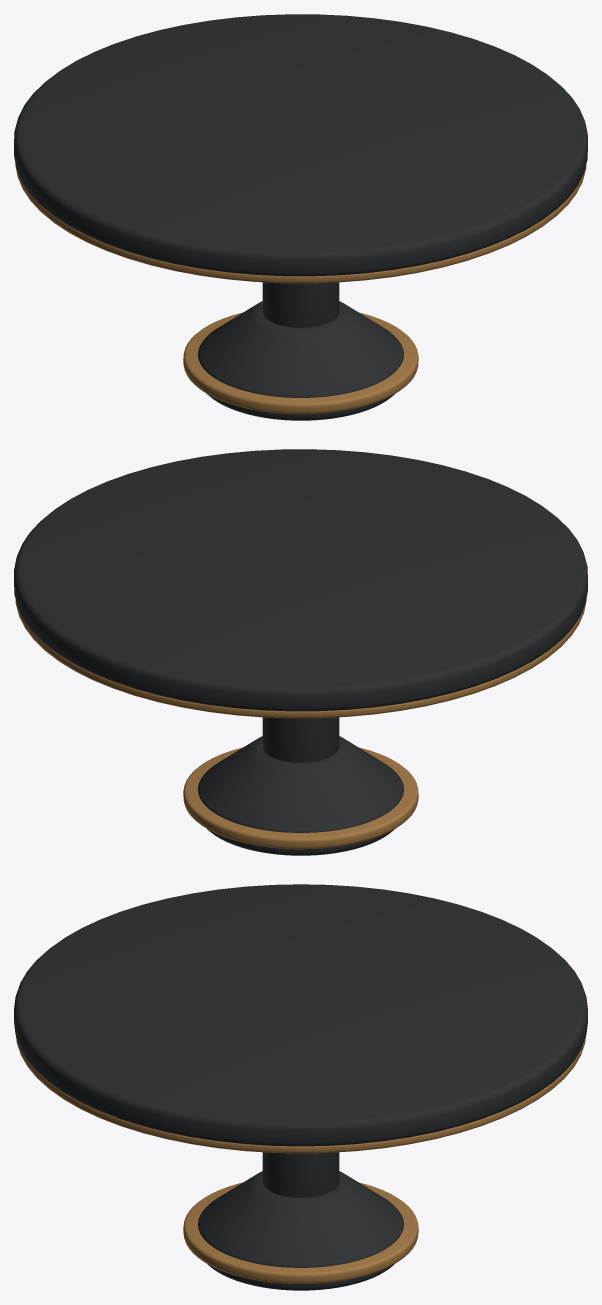
Rendered from barcelona-able.glb.
The picture shows the model from 3 angles, top to bottom: view 1: azimuth 30°, elevation 25°; view 2: azimuth 150°, elevation 25°; view 3: azimuth 270°, elevation 25°; orthographic projection.
Visible parts, largest first — view 1: Barcelona tabletop, Barcelona pedestal flare, Barcelona base accent, Barcelona tabletop bronze rim, Barcelona pedestal stem, Barcelona base; view 2: Barcelona tabletop, Barcelona pedestal flare, Barcelona base accent, Barcelona tabletop bronze rim, Barcelona pedestal stem, Barcelona base; view 3: Barcelona tabletop, Barcelona pedestal flare, Barcelona base accent, Barcelona tabletop bronze rim, Barcelona pedestal stem, Barcelona base.
Part boxes in pixels (left/top/right/bottom): Barcelona tabletop: left=14, top=14, right=587, bottom=276; Barcelona pedestal flare: left=198, top=301, right=403, bottom=397; Barcelona base accent: left=183, top=312, right=418, bottom=414; Barcelona tabletop bronze rim: left=15, top=164, right=586, bottom=283; Barcelona pedestal stem: left=262, top=282, right=339, bottom=327; Barcelona base: left=207, top=394, right=394, bottom=420; Barcelona tabletop: left=14, top=449, right=587, bottom=711; Barcelona pedestal flare: left=198, top=736, right=403, bottom=832; Barcelona base accent: left=183, top=747, right=418, bottom=849; Barcelona tabletop bronze rim: left=15, top=599, right=586, bottom=718; Barcelona pedestal stem: left=262, top=717, right=339, bottom=762; Barcelona base: left=207, top=829, right=394, bottom=855; Barcelona tabletop: left=14, top=884, right=587, bottom=1146; Barcelona pedestal flare: left=198, top=1171, right=403, bottom=1267; Barcelona base accent: left=183, top=1182, right=418, bottom=1283; Barcelona tabletop bronze rim: left=16, top=1036, right=585, bottom=1153; Barcelona pedestal stem: left=262, top=1152, right=339, bottom=1197; Barcelona base: left=207, top=1264, right=394, bottom=1290.
Size of the model in its own units: 2.1 by 0.99 by 2.1.
